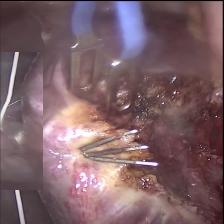Bipolar: (65, 0, 151, 118)
Specimen Bag: (0, 51, 43, 189)
